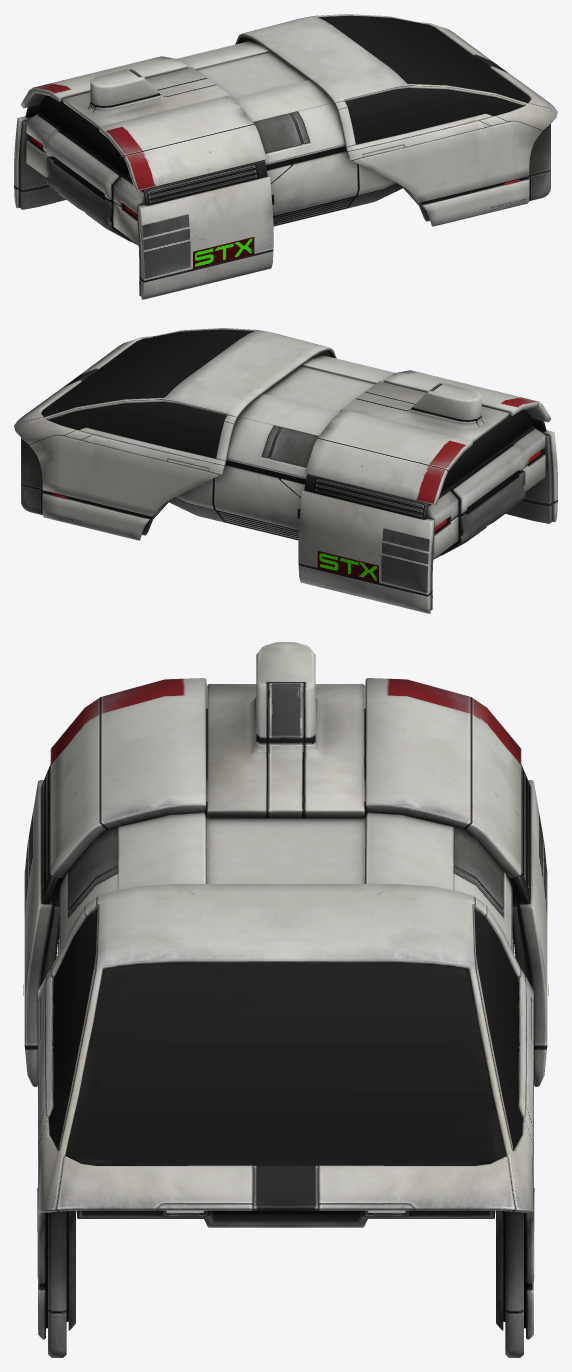
The model's file is Van01.FBX.
3 renders of one model, top to bottom at view 1: azimuth 30°, elevation 25°; view 2: azimuth 150°, elevation 25°; view 3: azimuth 270°, elevation 25°, orthographic. The views are drawn at different scales.
Parts seen in each view (by area): view 1: Van01; view 2: Van01; view 3: Van01.
Boxes of the visible parts, bbox=[...] form: Van01: bbox=[14, 14, 557, 299]; Van01: bbox=[14, 328, 557, 613]; Van01: bbox=[23, 642, 548, 1357].
Bounding box in the file's own units: 8.12 × 3.06 × 4.36.
